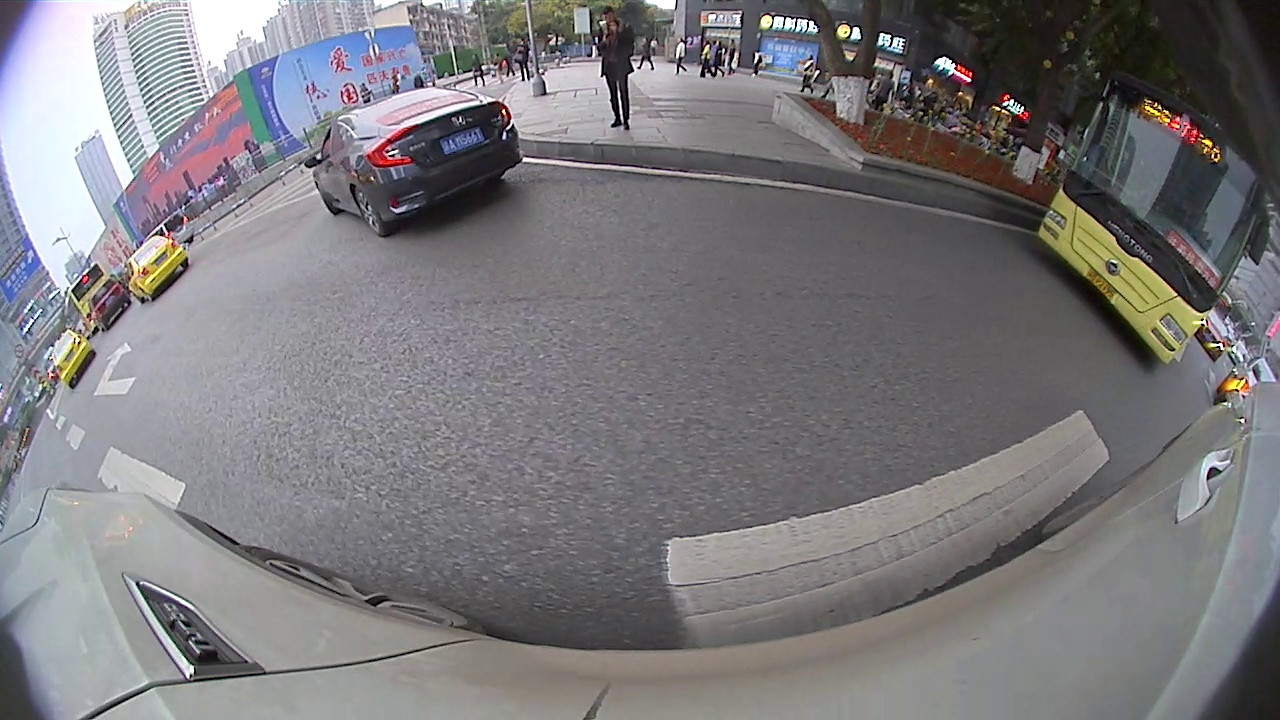bus: (1030, 57, 1272, 371)
car: (299, 79, 528, 244), (122, 227, 192, 304), (45, 326, 102, 394)
person: (595, 4, 643, 134)
rear: (350, 190, 389, 236)
